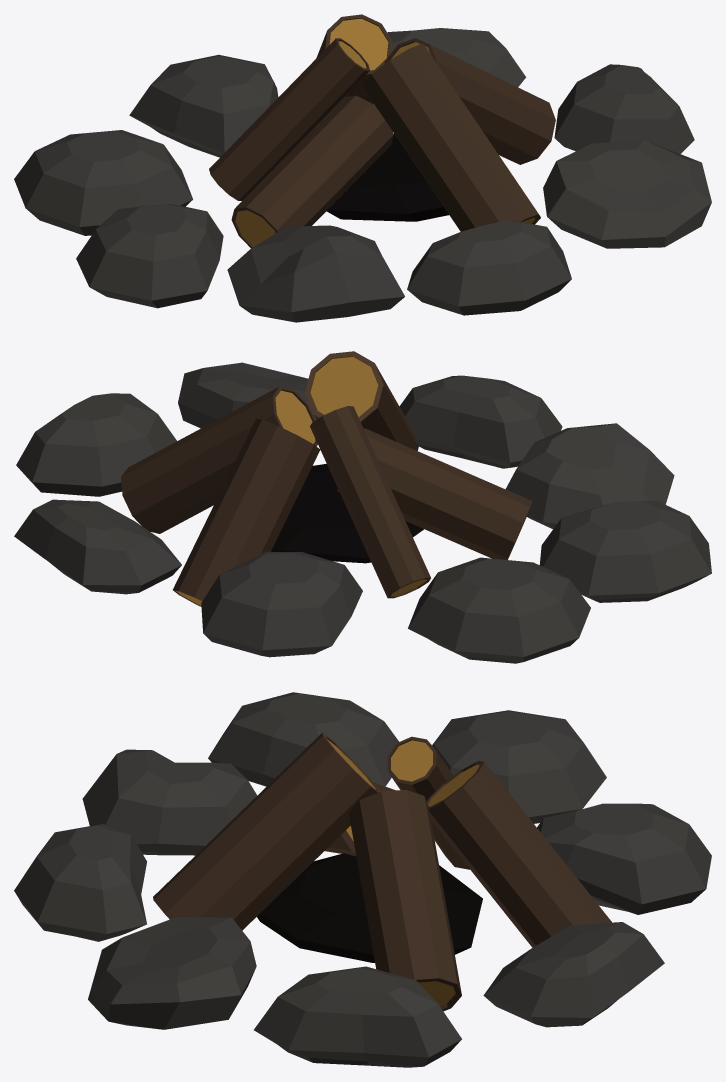
File: SM_Bonfire_01.glb
3 views of the same model, one above another, from view 1: azimuth 30°, elevation 25°; view 2: azimuth 150°, elevation 25°; view 3: azimuth 270°, elevation 25° (orthographic). The views are drawn at different scales.
Parts seen in each view (by area): view 1: SM_Bonfire_01; view 2: SM_Bonfire_01; view 3: SM_Bonfire_01.
Boxes of the visible parts, x1,y1,x2,y2 form: SM_Bonfire_01: (14,14,711,322); SM_Bonfire_01: (14,351,711,663); SM_Bonfire_01: (14,692,711,1067).
Bounding box in the file's own units: 1.6 × 0.4723 × 1.38.
Materials: 1 (1 with a texture image).
